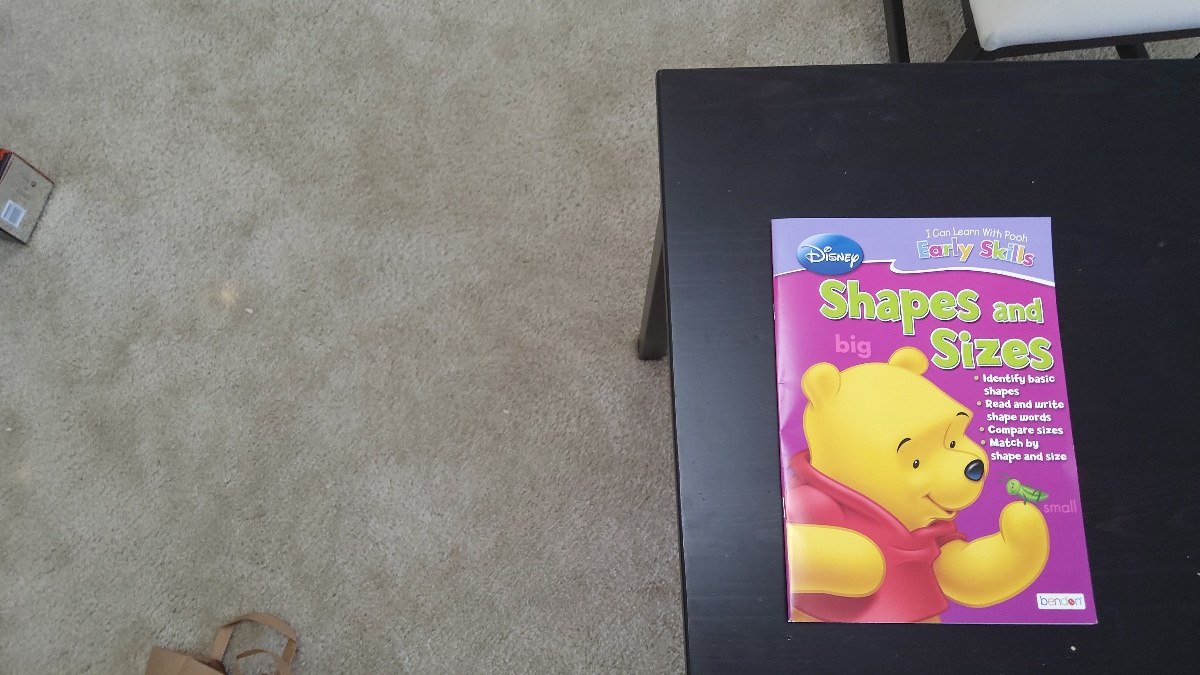book: (787, 219, 1055, 621)
